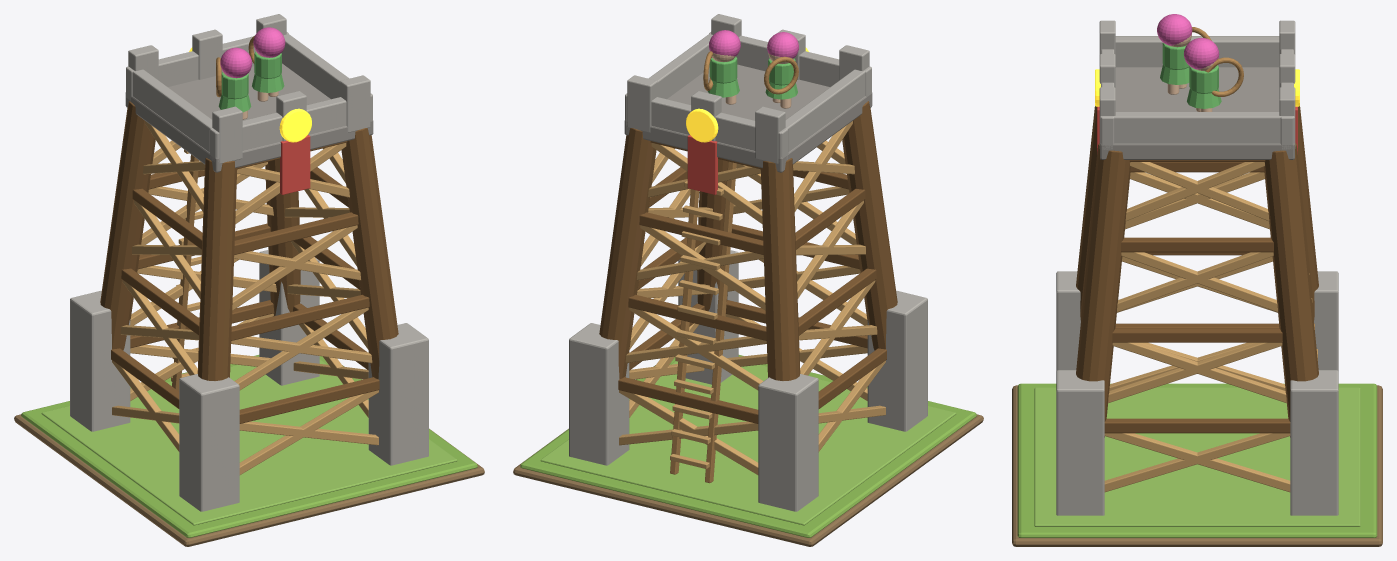
File: archer_tower_lv4.glb
3 views of the same model, side by side, from view 1: azimuth 30°, elevation 25°; view 2: azimuth 150°, elevation 25°; view 3: azimuth 270°, elevation 25° (orthographic). The views are drawn at different scales.
Visible parts, largest first — view 1: Base_Inner, LegFooting_-1_-1, TowerLeg_-1_-1, LegFooting_1_-1, Base_Grass, TowerLeg_1_-1, LegFooting_-1_1, TowerLeg_-1_1, TopDeck, Base_Dirt, ParapetLR_-1, LegFooting_1_1 (+50 smaller); view 2: Base_Inner, LegFooting_-1_1, TowerLeg_-1_1, Base_Grass, LegFooting_1_1, TowerLeg_1_1, LegFooting_-1_-1, TowerLeg_-1_-1, TopDeck, Base_Dirt, ParapetLR_-1, ParapetFB_1 (+47 smaller); view 3: Base_Inner, Base_Grass, TopDeck, TowerLeg_1_1, TowerLeg_1_-1, LegFooting_1_1, LegFooting_1_-1, ParapetLR_1, Base_Dirt, ParapetLR_-1, HorizBeamY_0_1, HorizBeamY_1_1 (+36 smaller).
Boxes of the visible parts, bbox=[...] form: Base_Inner: bbox=[41, 359, 457, 525]; LegFooting_-1_-1: bbox=[179, 374, 239, 511]; TowerLeg_-1_-1: bbox=[197, 158, 237, 380]; LegFooting_1_-1: bbox=[368, 323, 428, 465]; Base_Grass: bbox=[21, 355, 477, 537]; TowerLeg_1_-1: bbox=[341, 128, 398, 378]; LegFooting_-1_1: bbox=[70, 290, 130, 431]; TowerLeg_-1_1: bbox=[100, 101, 155, 350]; TopDeck: bbox=[125, 63, 373, 172]; Base_Dirt: bbox=[14, 365, 484, 546]; ParapetLR_-1: bbox=[126, 66, 219, 161]; LegFooting_1_1: bbox=[259, 250, 319, 385]; Base_Inner: bbox=[540, 361, 956, 525]; LegFooting_-1_1: bbox=[758, 374, 818, 511]; TowerLeg_-1_1: bbox=[760, 158, 800, 380]; Base_Grass: bbox=[520, 355, 976, 537]; LegFooting_1_1: bbox=[569, 323, 629, 465]; TowerLeg_1_1: bbox=[599, 128, 656, 378]; LegFooting_-1_-1: bbox=[867, 290, 927, 431]; TowerLeg_-1_-1: bbox=[842, 101, 897, 350]; TopDeck: bbox=[624, 64, 872, 172]; Base_Dirt: bbox=[513, 365, 983, 546]; ParapetLR_-1: bbox=[778, 66, 871, 161]; ParapetFB_1: bbox=[625, 93, 788, 159]; Base_Inner: bbox=[1034, 387, 1360, 526]; Base_Grass: bbox=[1017, 383, 1377, 537]; TopDeck: bbox=[1100, 67, 1294, 159]; TowerLeg_1_1: bbox=[1264, 143, 1318, 437]; TowerLeg_1_-1: bbox=[1076, 143, 1130, 437]; LegFooting_1_1: bbox=[1290, 370, 1338, 515]; LegFooting_1_-1: bbox=[1056, 370, 1104, 515]; ParapetLR_1: bbox=[1100, 112, 1294, 143]; Base_Dirt: bbox=[1012, 385, 1382, 546]; ParapetLR_-1: bbox=[1115, 36, 1279, 67]; HorizBeamY_0_1: bbox=[1104, 418, 1290, 433]; HorizBeamY_1_1: bbox=[1112, 328, 1282, 342].
Size of the model in its own units: 2.76 by 3.63 by 2.76.
